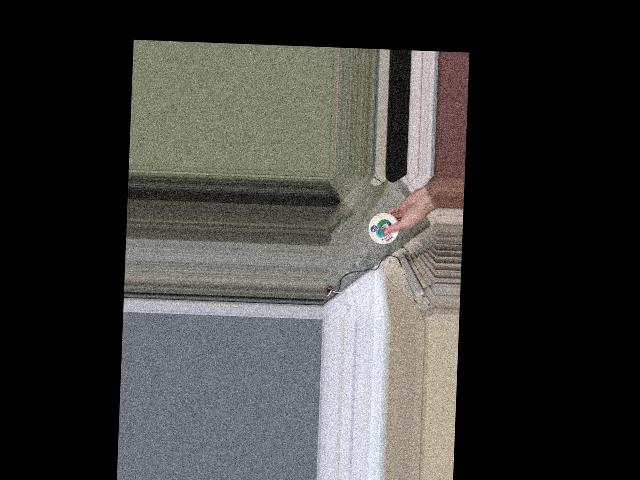cotage: (369, 213, 399, 243)
